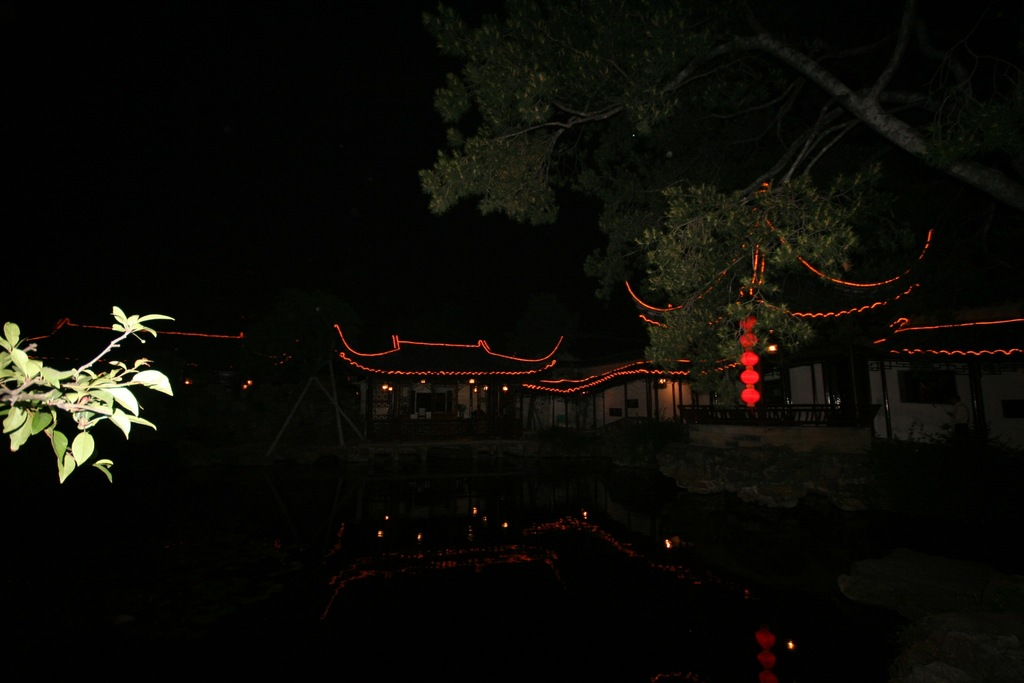Tree: (417, 0, 1024, 412), (0, 305, 175, 483)
